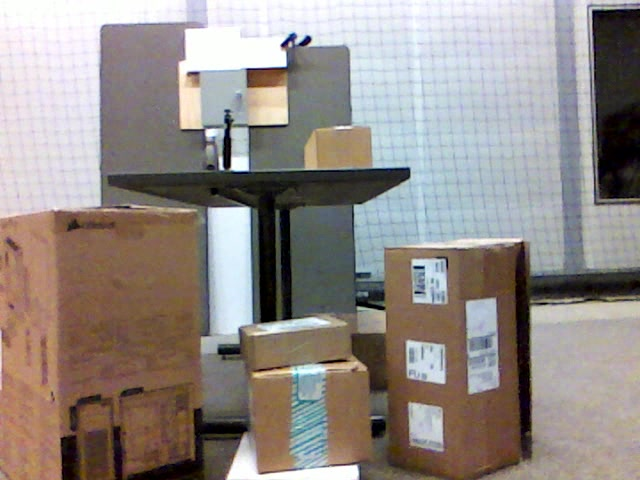box: (1, 208, 205, 480), (385, 237, 532, 480), (246, 361, 374, 470), (239, 315, 351, 367), (305, 126, 374, 169)
